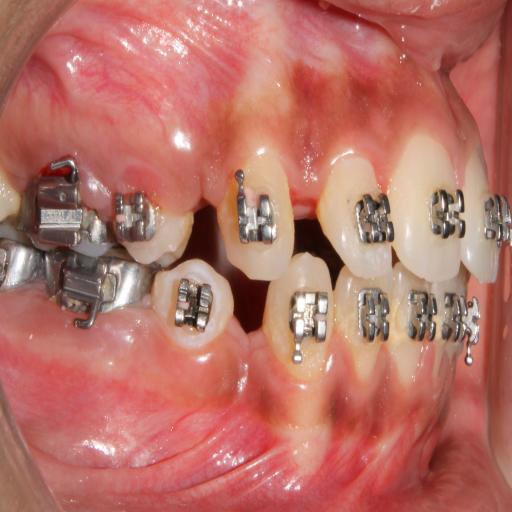correct_brace: (151, 260, 234, 352), (110, 190, 195, 270), (232, 168, 278, 252), (430, 174, 465, 249), (354, 189, 393, 250), (173, 277, 212, 335)
incorrect_brace: (314, 151, 395, 280), (116, 197, 158, 243)
